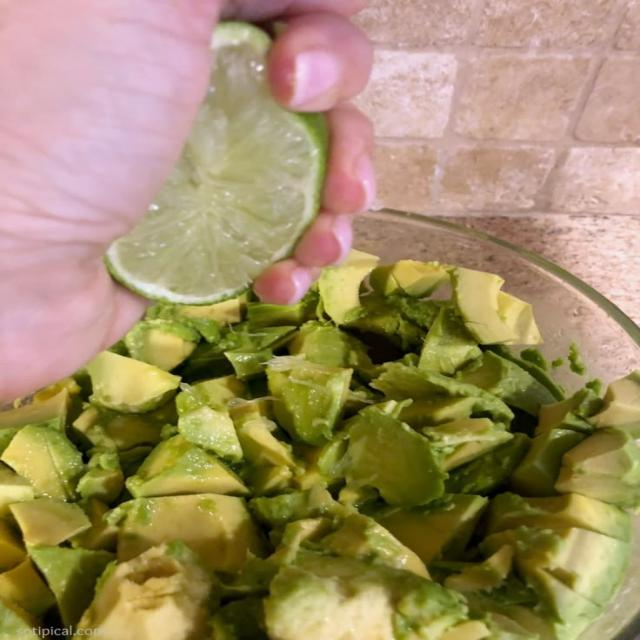avocado: (265, 552, 466, 639), (78, 543, 212, 639), (480, 526, 631, 606), (111, 494, 261, 572), (344, 406, 446, 507), (371, 362, 513, 424), (375, 495, 487, 565), (127, 434, 248, 497), (267, 357, 352, 445), (486, 493, 632, 542), (321, 513, 428, 578), (451, 267, 541, 344), (555, 428, 639, 508), (29, 547, 113, 626), (456, 351, 555, 416), (0, 426, 85, 501), (87, 351, 180, 412), (342, 293, 425, 360), (527, 569, 602, 639), (509, 428, 585, 497), (446, 433, 530, 495), (72, 403, 175, 452), (421, 418, 513, 471), (0, 386, 71, 453), (287, 321, 373, 374), (318, 250, 379, 324), (485, 345, 566, 400), (249, 485, 348, 529), (419, 308, 481, 375), (10, 498, 90, 546), (124, 320, 199, 371), (178, 406, 242, 461), (590, 370, 639, 438), (444, 545, 513, 593), (0, 558, 55, 617), (236, 415, 296, 469), (535, 387, 602, 435), (0, 388, 70, 433), (369, 260, 451, 297), (268, 517, 332, 564), (295, 432, 347, 488), (176, 376, 246, 416), (399, 397, 477, 429), (72, 498, 118, 551), (211, 597, 268, 639), (78, 451, 124, 503), (247, 294, 317, 328), (178, 294, 247, 324), (0, 463, 34, 518), (0, 597, 39, 639), (225, 348, 273, 380), (245, 466, 293, 496), (0, 520, 26, 571), (440, 620, 492, 639)
